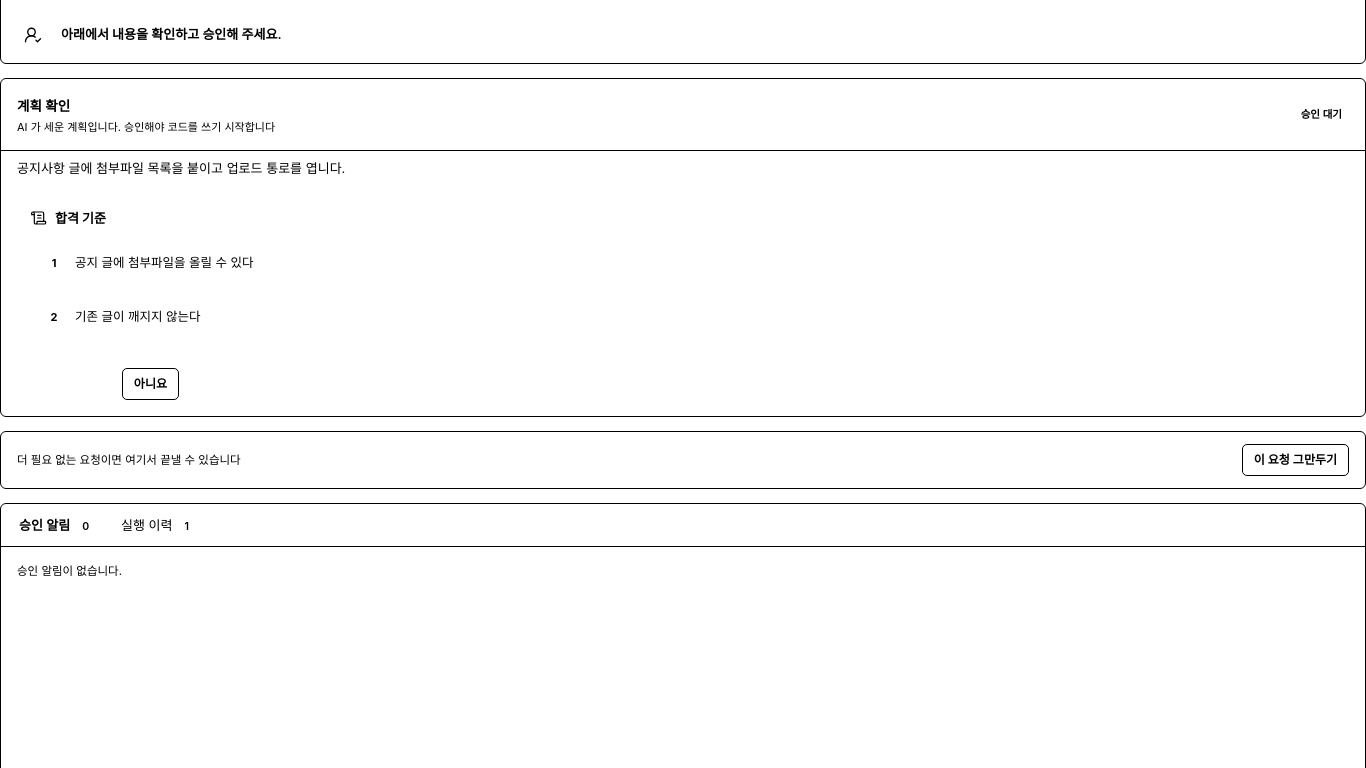
it: rejecting a plan warns that the request is cancelled and refuses an empty reason
(page scrolled)
Click the button "아니요" at (150, 384), box [122,368,179,400]
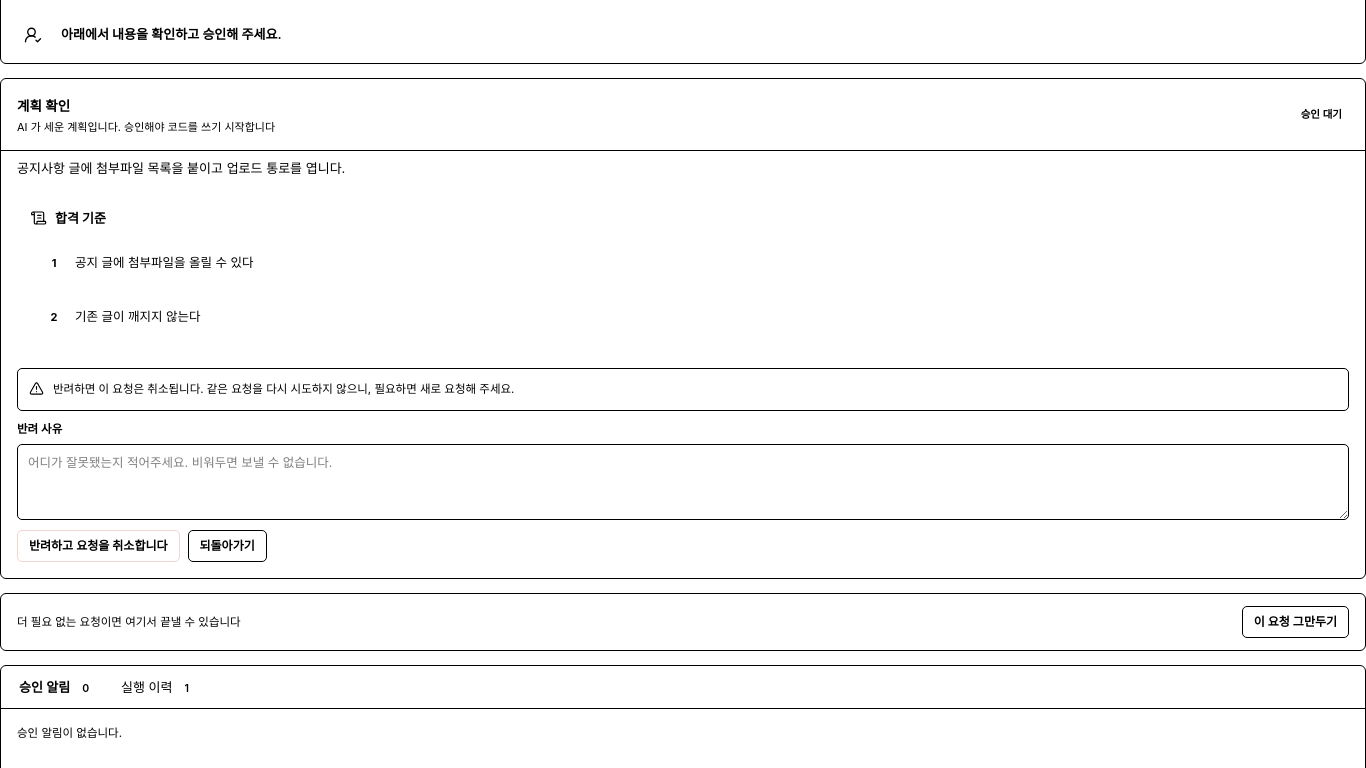
Check: the text "반려하면 이 요청은 취소됩니다. 같은 요청을 다시 시도하지 않으니, 필요하면 새로 요청해 주세요." is shown, box [53,380,514,399]
Check: the button "반려하고 요청을 취소합니다" is disabled, box [17,530,180,562]
